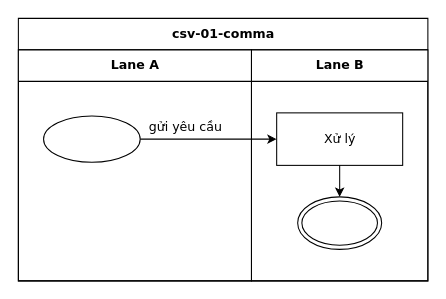
The diagram is 446 pixels wide and 299 high, and some of its shapes have lost their labels. Each missing label, with the centre of its shape:
Bắt đầu: [91,138]
Xong: [339,222]
